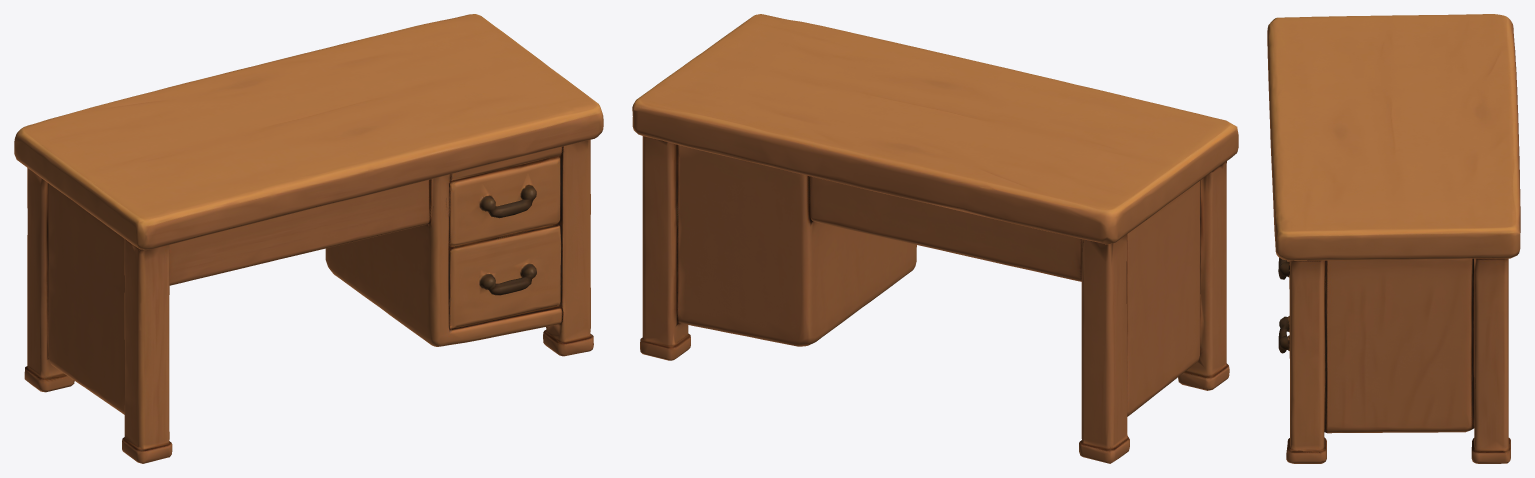
The model's file is desk.glb.
3 renders of one model, left to right at view 1: azimuth 30°, elevation 25°; view 2: azimuth 150°, elevation 25°; view 3: azimuth 270°, elevation 25°, orthographic. The views are drawn at different scales.
Visible parts, largest first — view 1: tripo_node_3d1a7e59-d1fb-4d5d-a78a-9b4999434e5d; view 2: tripo_node_3d1a7e59-d1fb-4d5d-a78a-9b4999434e5d; view 3: tripo_node_3d1a7e59-d1fb-4d5d-a78a-9b4999434e5d.
Boxes of the visible parts, bbox=[...] form: tripo_node_3d1a7e59-d1fb-4d5d-a78a-9b4999434e5d: bbox=[14, 14, 603, 463]; tripo_node_3d1a7e59-d1fb-4d5d-a78a-9b4999434e5d: bbox=[632, 14, 1238, 463]; tripo_node_3d1a7e59-d1fb-4d5d-a78a-9b4999434e5d: bbox=[1267, 14, 1520, 463].
Size of the model in its own units: 1 by 0.511 by 0.4903.
Materials: 1 (1 with a texture image).
